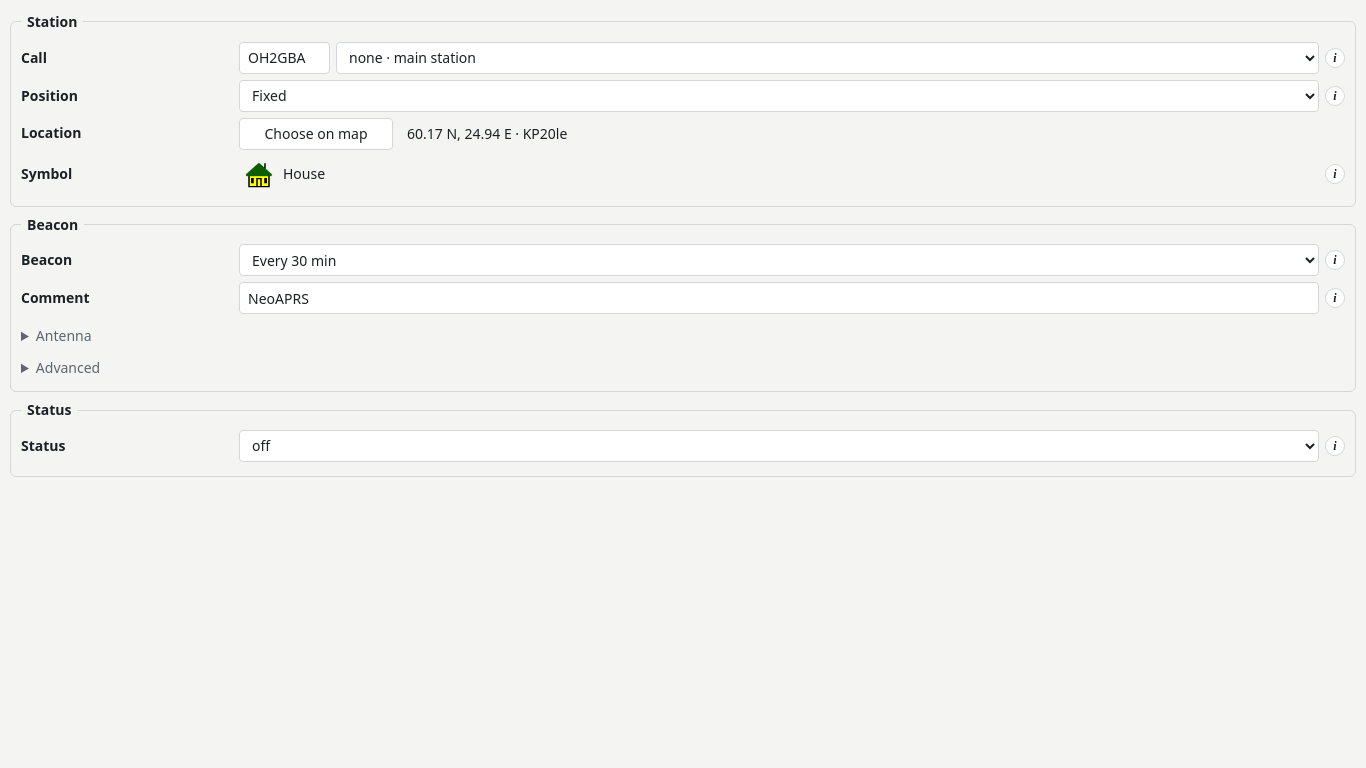
Test: the Status group › asks for the rigctld, the text with {freq} and {mode}, and how often when the choice is the radio
Select "the frequency from my radio (rigctld)" in the dropdown with id "set-status-source" at coordinates (779, 446), box [239,430,1319,462]
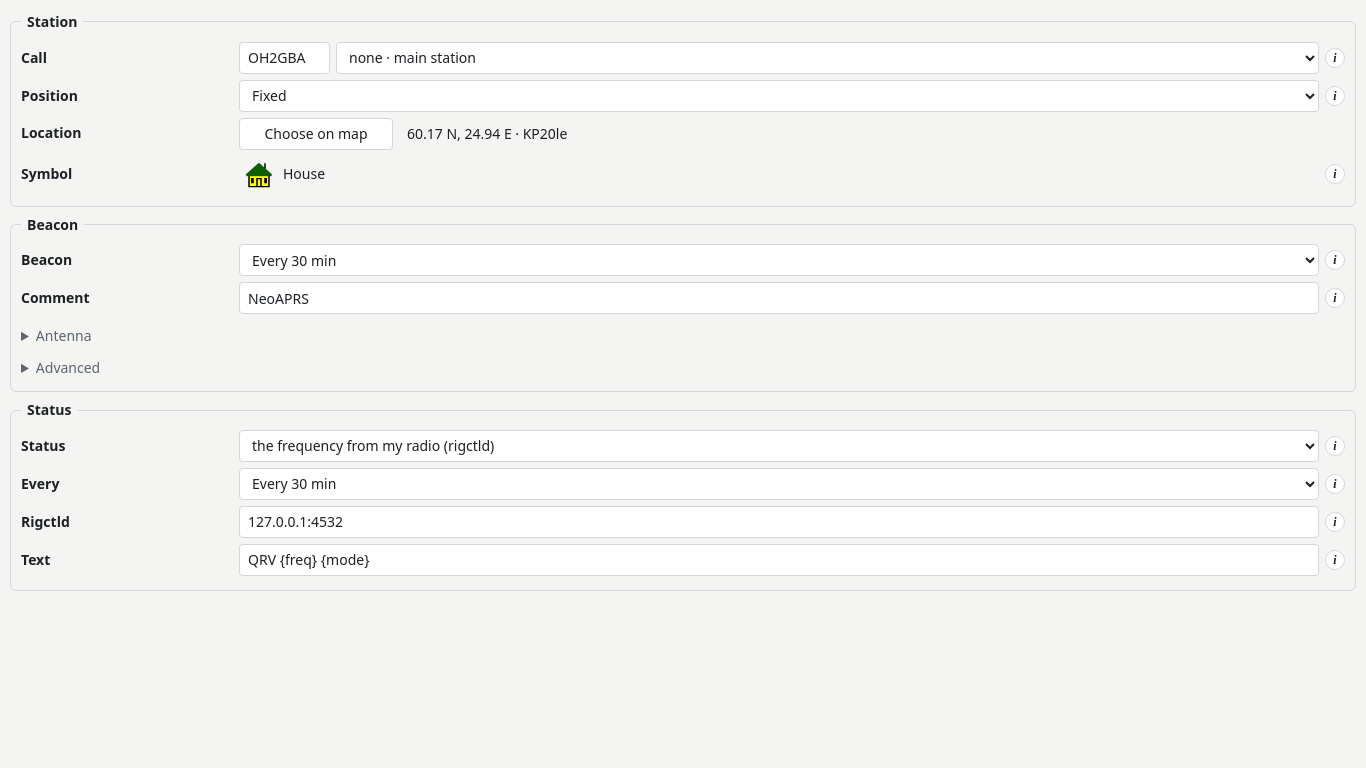
Now the dropdown with id "set-status-interval_min" shows "Every 30 min", box [239,468,1319,500]
